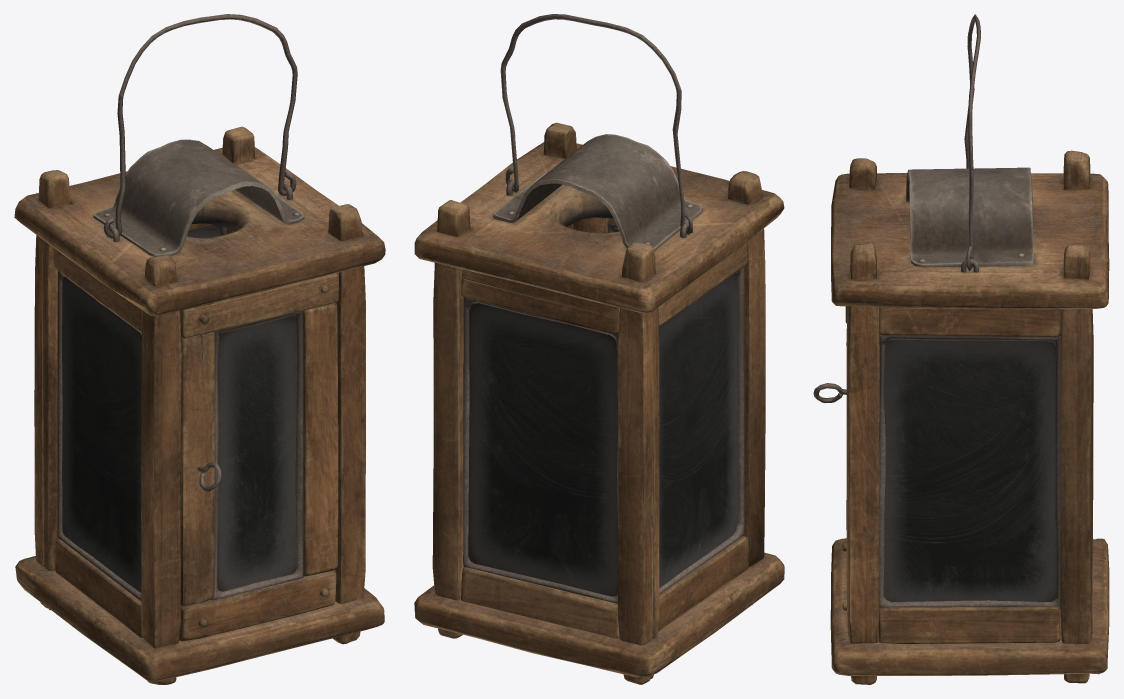
File: lantern.glb
3 renders of one model, left to right at view 1: azimuth 30°, elevation 25°; view 2: azimuth 150°, elevation 25°; view 3: azimuth 270°, elevation 25°, orthographic.
Parts seen in each view (by area): view 1: lantern; view 2: lantern; view 3: lantern.
Part boxes in pixels (bbox=[...]): lantern: bbox=[14, 14, 385, 684]; lantern: bbox=[414, 14, 784, 684]; lantern: bbox=[813, 14, 1109, 684].
Bounding box in the file's own units: 0.221 × 0.5301 × 0.2348.
2 materials, 2 textured.
